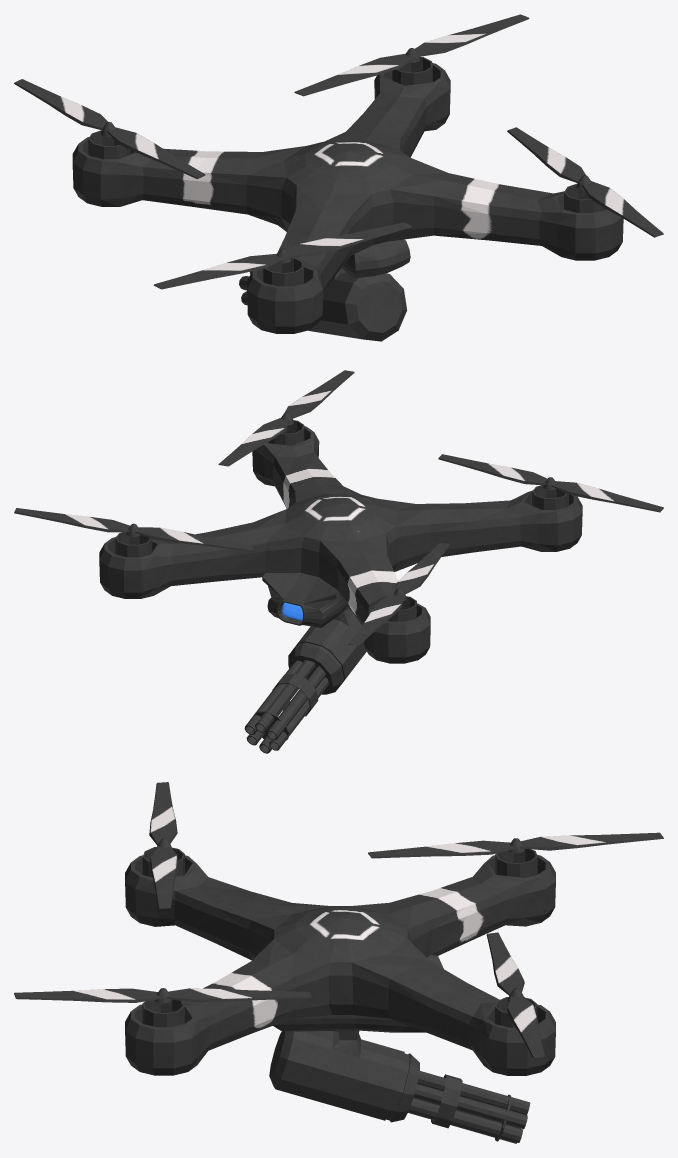
File: drone.fbx
The picture shows the model from 3 angles, top to bottom: view 1: azimuth 30°, elevation 25°; view 2: azimuth 150°, elevation 25°; view 3: azimuth 270°, elevation 25°; orthographic projection. The views are drawn at different scales.
Parts seen in each view (by area): view 1: polySurface89, polySurface84, polySurface78, polySurface80, polySurface88; view 2: polySurface89, polySurface78, polySurface84, polySurface88, polySurface80; view 3: polySurface89, polySurface88, polySurface80, polySurface78, polySurface84.
Boxes of the visible parts, x1,y1,x2,y2 form: polySurface89: [72, 56, 623, 341]; polySurface84: [153, 222, 411, 289]; polySurface78: [294, 14, 529, 96]; polySurface80: [14, 79, 205, 179]; polySurface88: [507, 127, 663, 237]; polySurface89: [99, 420, 582, 753]; polySurface78: [14, 508, 254, 551]; polySurface84: [438, 454, 663, 512]; polySurface88: [218, 370, 354, 466]; polySurface80: [348, 543, 449, 645]; polySurface89: [125, 847, 555, 1143]; polySurface88: [14, 988, 311, 1003]; polySurface80: [368, 832, 663, 858]; polySurface78: [486, 932, 544, 1058]; polySurface84: [149, 782, 178, 908].
Size of the model in its own units: 119 by 46 by 119.
1 material, 1 textured.
